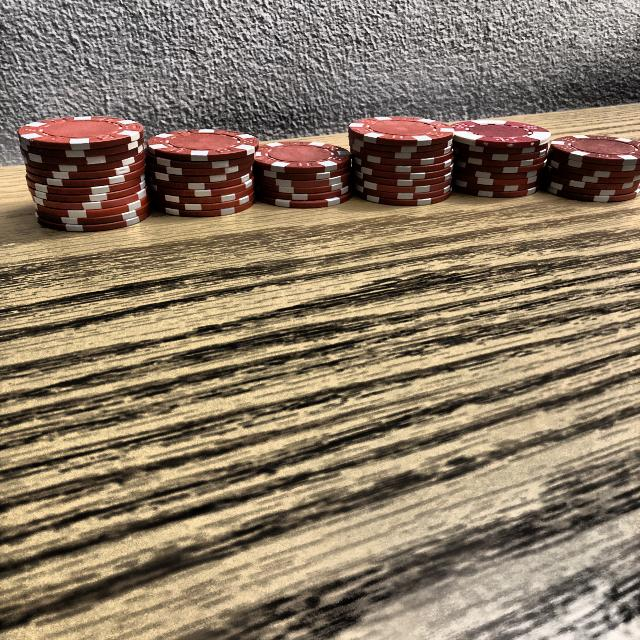Chip: (17, 91, 157, 248), (144, 112, 266, 228), (338, 112, 466, 206), (444, 110, 550, 208), (249, 128, 358, 212), (539, 126, 640, 215)
